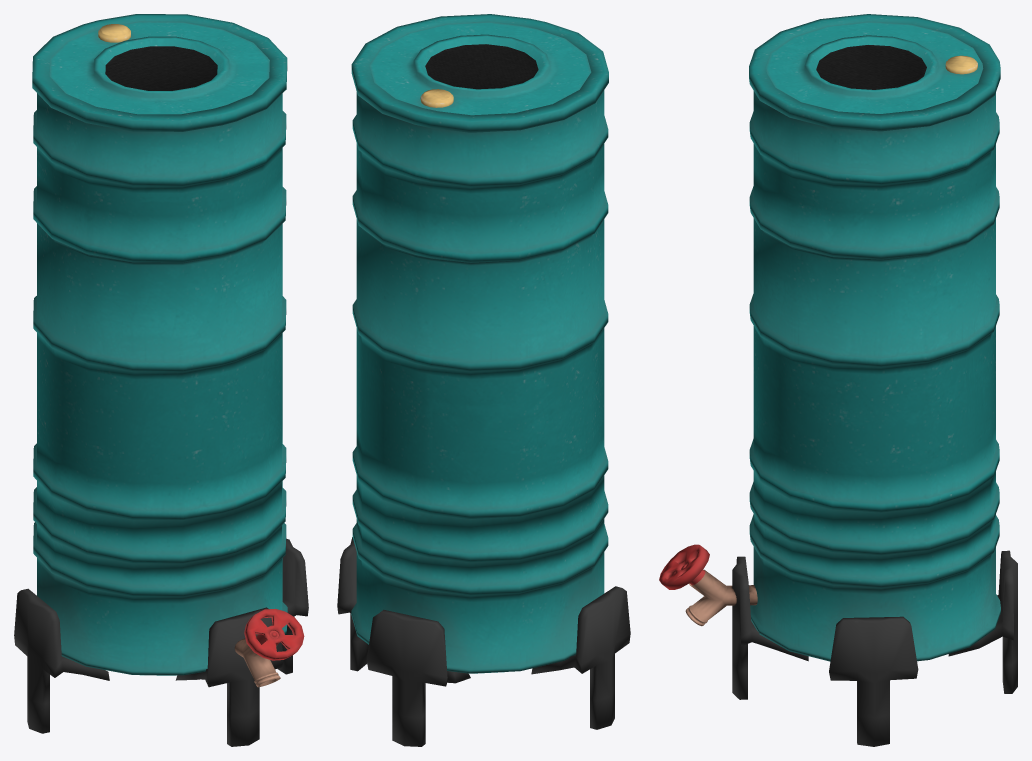
The model's file is sm_rain_barrel.gltf.
3 renders of one model, left to right at view 1: azimuth 30°, elevation 25°; view 2: azimuth 150°, elevation 25°; view 3: azimuth 270°, elevation 25°, orthographic.
Visible parts, largest first — view 1: SM_RainBarrel_Type_02.001; view 2: SM_RainBarrel_Type_02.001; view 3: SM_RainBarrel_Type_02.001.
Part boxes in pixels (<box>): SM_RainBarrel_Type_02.001: <box>14,14,308,746</box>; SM_RainBarrel_Type_02.001: <box>337,14,630,746</box>; SM_RainBarrel_Type_02.001: <box>659,14,1017,746</box>.
Size of the model in its own units: 0.7251 by 1.69 by 0.8816.
Materials: 7 (7 with a texture image).
